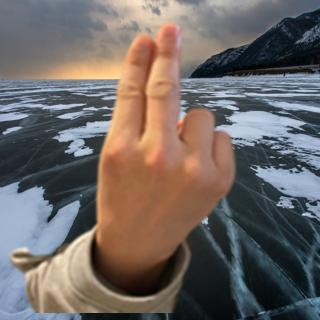DHAVE: (89, 22, 240, 272)
